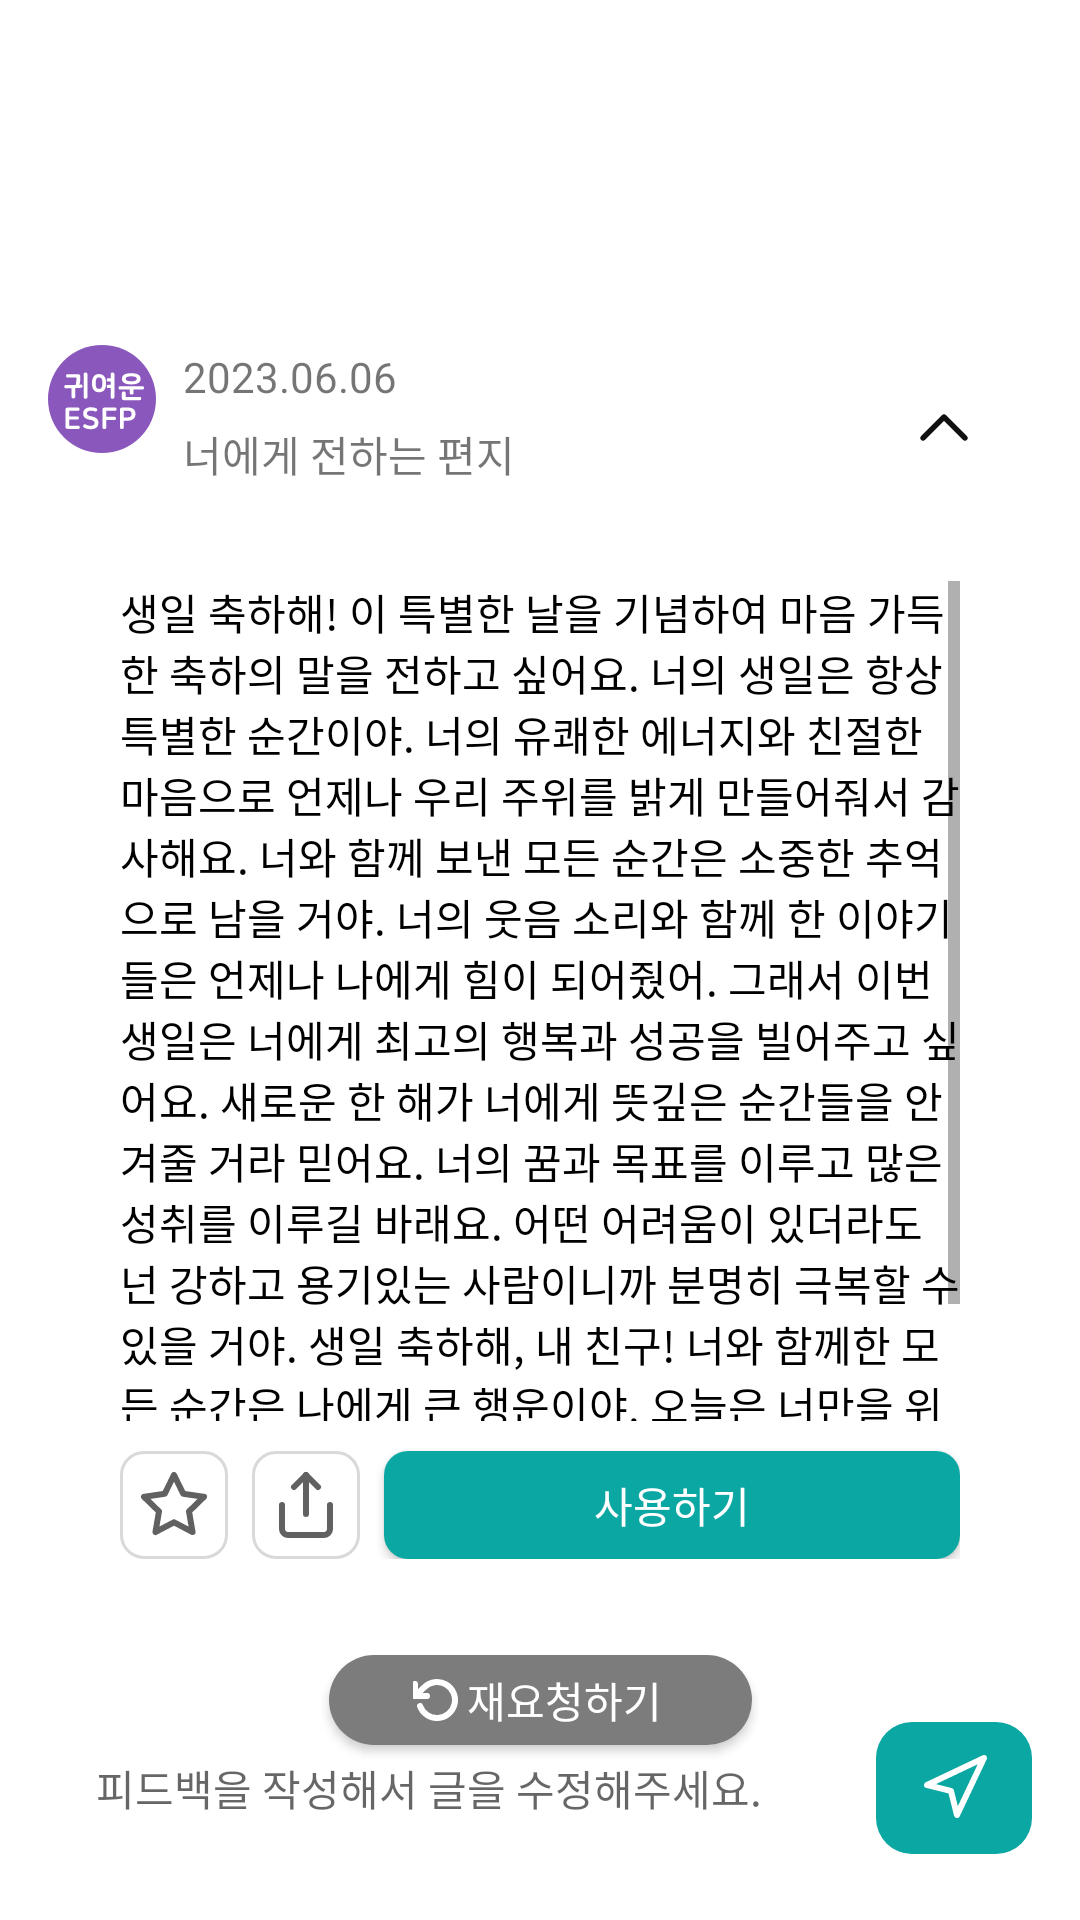

Screen size 1080*1920. Icon name, then its box in pixels as (x1, y1, x2, y2):
upbtn: (920, 414, 968, 441)
